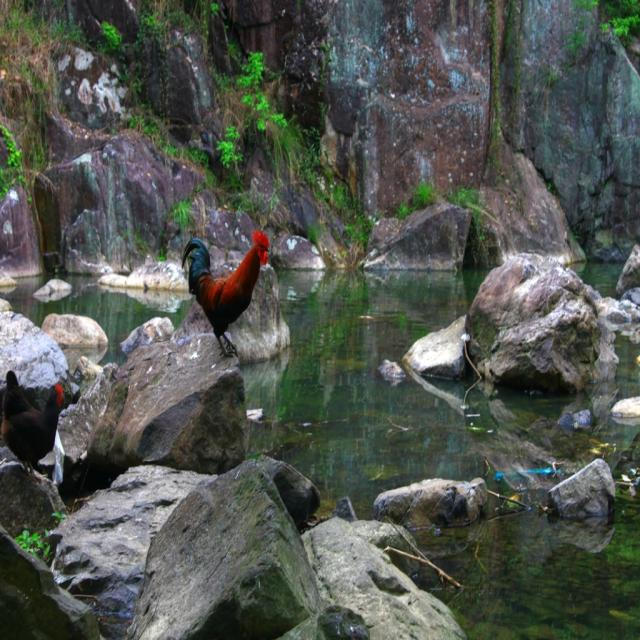Chicken: (180, 227, 270, 354), (0, 369, 66, 488)
